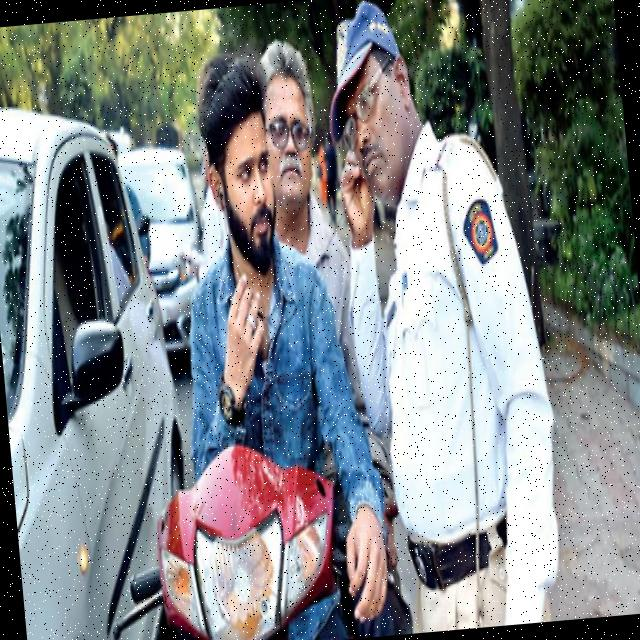No helmet: (178, 42, 306, 278)
